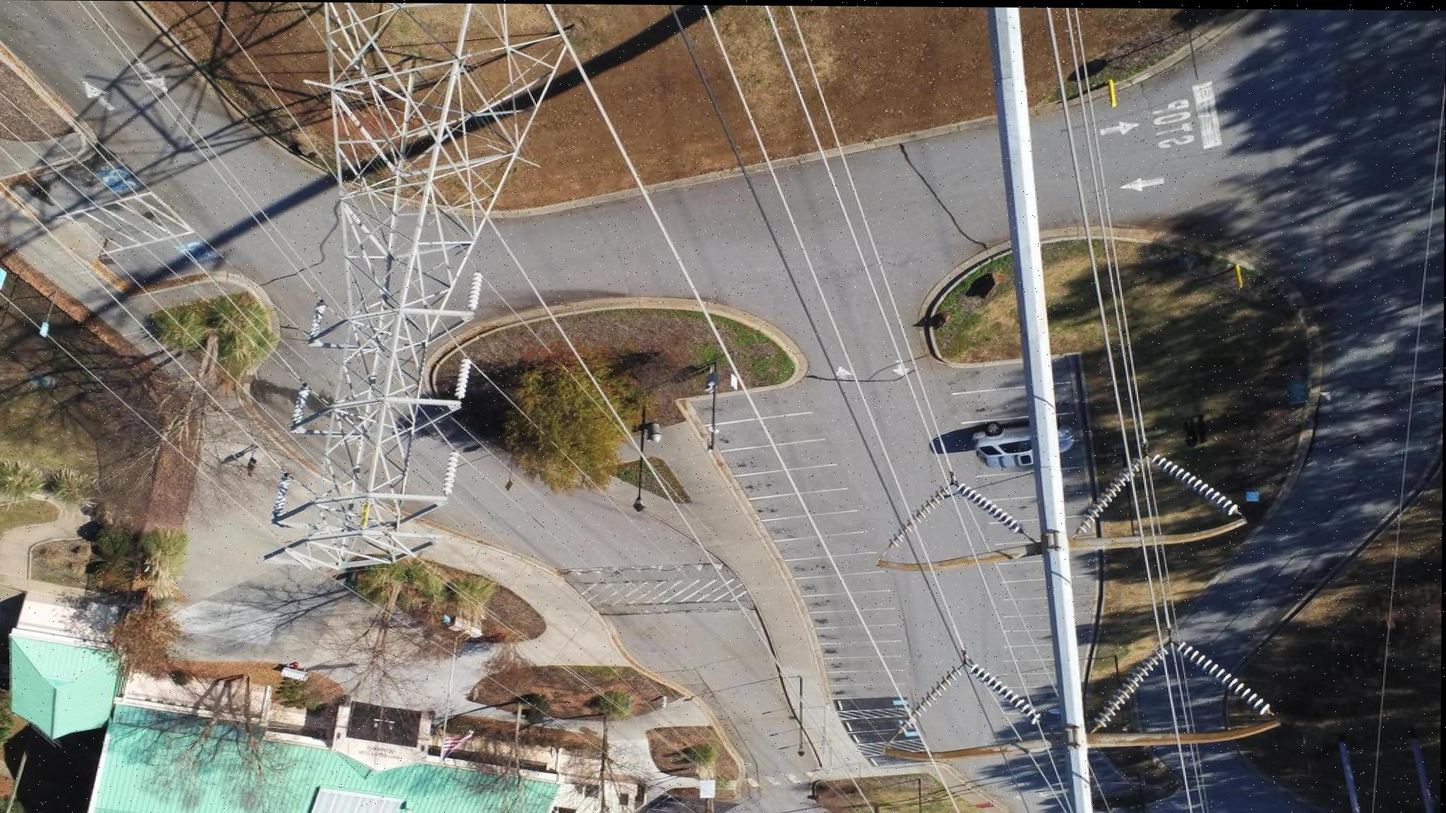tower: (260, 2, 578, 574)
